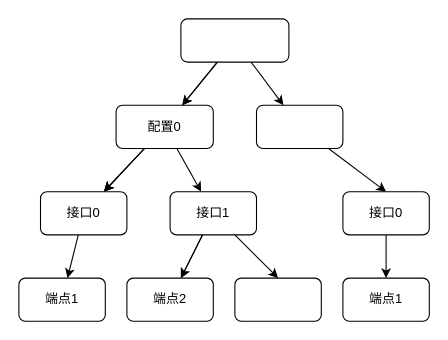
This 448x340 diagram has some shape labels left out. The shapes that lost their labels are listed below. From the top down, each one's centre as x and y in pixels, then its label:
At (x=234, y=40): "设备描述符号".
At (x=299, y=126): "配置1".
At (x=277, y=299): "端点3".
